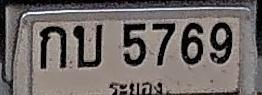5: (123, 23, 146, 66)
6: (181, 22, 203, 64)
7: (152, 22, 175, 65)
9: (210, 22, 232, 64)
A01: (40, 25, 66, 68)
A26: (73, 24, 103, 68)
RYG: (107, 77, 169, 95)
